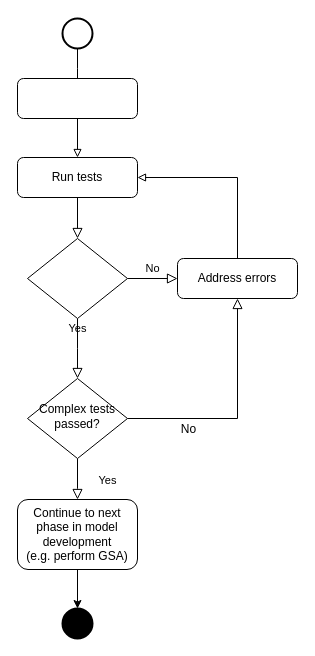
Some shapes in this 315 by 656 pixel diagram are drawn without their labels. Here are the shapes that lost their labels. From the top down, the centre of each, then its label:
At point 77,98: "Model(s) ready to be tested".
At point 77,278: "Simple tests passed?".
